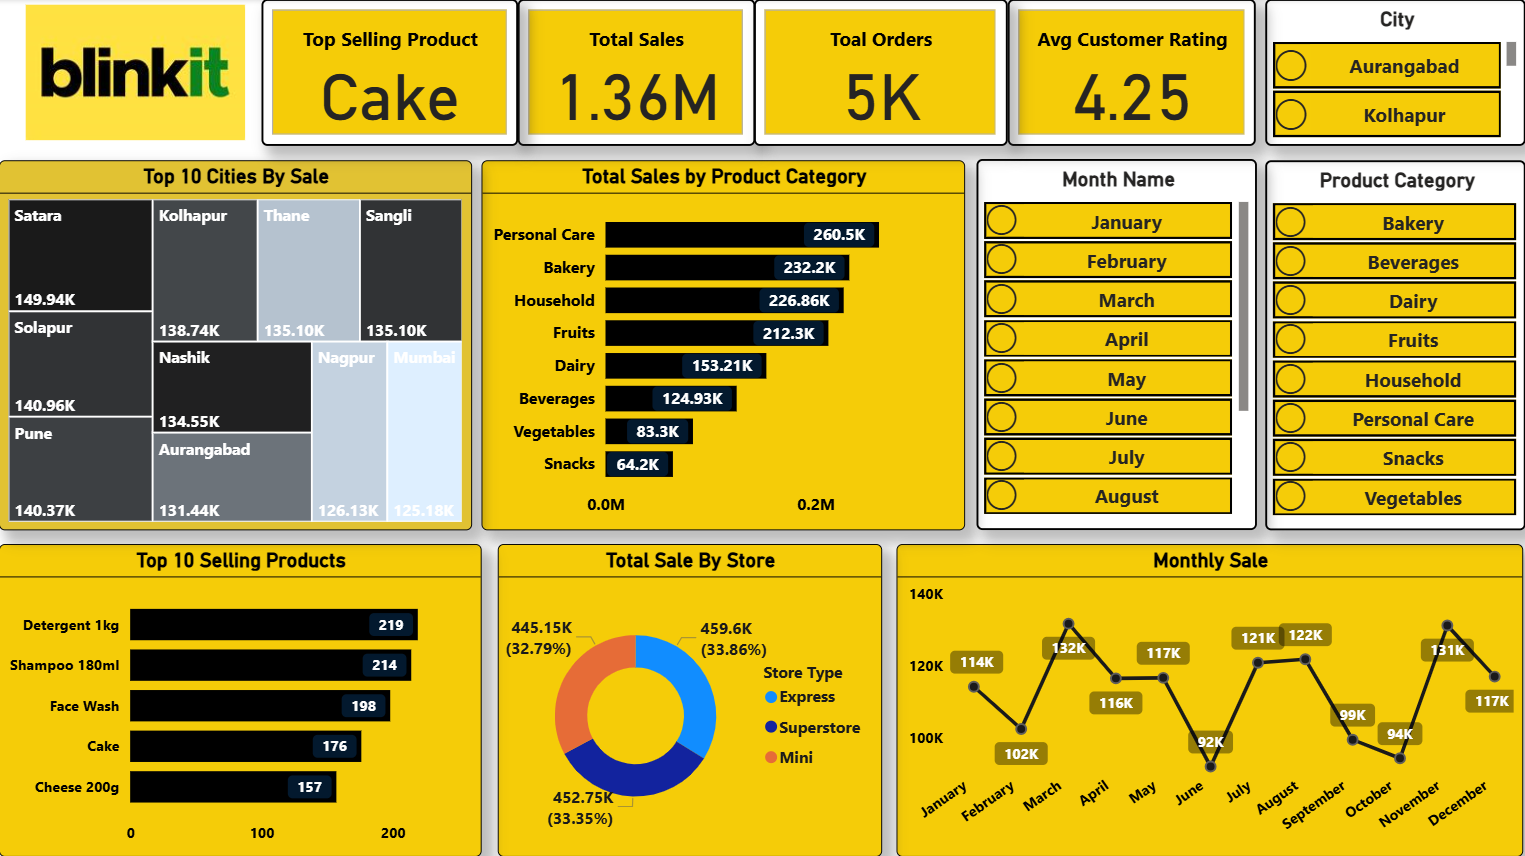

The dashboard page shown, as its layout file describes it:
{"tool":"powerbi","page":{"name":"Page 1","canvas":[1280,720],"ordinal":0},"visuals":[{"type":"lineChart","title":"Monthly Sale","fields":{"Category":["Blinkit_Data.Month Name"],"Y":["Sum(Blinkit_Data.Total_Sales)"]},"box":[752.3,457,525.6,262.8],"z":0},{"type":"barChart","fields":{"Y":["Sum(Blinkit_Data.Total_Sales)"],"Category":["Blinkit_Data.Product_Category"]},"box":[404.7,134.9,405.8,310.5],"z":1000},{"type":"donutChart","title":"Total Sale By Store","fields":{"Category":["Blinkit_Data.Store_Type"],"Y":["Sum(Blinkit_Data.Total_Sales)"]},"box":[418.6,457,322.1,262.8],"z":2000},{"type":"barChart","title":"Top 10 Selling Products","fields":{"Category":["Blinkit_Data.Product_Name"],"Y":["CountNonNull(Blinkit_Data.Product_Category)"]},"box":[0,457,404.7,262.8],"z":3000},{"type":"treemap","title":"Top 10 Cities By Sale","fields":{"Group":["Blinkit_Data.City"],"Values":["Sum(Blinkit_Data.Total_Sales)"]},"box":[0,134.9,396.5,310.5],"z":4000},{"type":"cardVisual","fields":{"Data":["Sum(Blinkit_Data.Total_Sales)"]},"box":[434.9,0,198.8,123.3],"z":5000},{"type":"cardVisual","fields":{"Data":["Min(Blinkit_Data.Product_Name)"]},"box":[219.8,0,215.1,123.3],"z":6000},{"type":"cardVisual","fields":{"Data":["Avg(Blinkit_Data.Customer_Rating)"]},"box":[846.5,0,208.1,123.3],"z":7000},{"type":"listSlicer","fields":{"Values":["Blinkit_Data.Month Name"]},"box":[819.7,134.5,235.2,310.9],"z":8000},{"type":"cardVisual","fields":{"Data":["Count(Blinkit_Data.Order_ID)"]},"box":[633.7,0,212.8,123.3],"z":9000},{"type":"listSlicer","fields":{"Values":["Blinkit_Data.Product_Category"]},"box":[1061.6,134.9,218.6,310.5],"z":10000},{"type":"image","box":[0,0,229.1,123.3],"z":11000},{"type":"listSlicer","fields":{"Values":["Blinkit_Data.City"]},"box":[1061.6,0,218.6,123.3],"z":11001}]}

Visuals, with their boxes in screenshot pixels (x1, y1, x2, y2), scaled from the page's 1280x720 canvas onto the 1525x856 screenshot:
"Monthly Sale" lineChart: left=896, top=543, right=1522, bottom=855
barChart - Sum(Blinkit_Data.Total_Sales) x Blinkit_Data.Product_Category: left=482, top=160, right=966, bottom=530
"Total Sale By Store" donutChart: left=499, top=543, right=882, bottom=855
"Top 10 Selling Products" barChart: left=0, top=543, right=482, bottom=855
"Top 10 Cities By Sale" treemap: left=0, top=160, right=472, bottom=530
cardVisual - Sum(Blinkit_Data.Total_Sales): left=518, top=0, right=755, bottom=147
cardVisual - Min(Blinkit_Data.Product_Name): left=262, top=0, right=518, bottom=147
cardVisual - Avg(Blinkit_Data.Customer_Rating): left=1009, top=0, right=1256, bottom=147
listSlicer - Blinkit_Data.Month Name: left=977, top=160, right=1257, bottom=530
cardVisual - Count(Blinkit_Data.Order_ID): left=755, top=0, right=1009, bottom=147
listSlicer - Blinkit_Data.Product_Category: left=1265, top=160, right=1524, bottom=530
image: left=0, top=0, right=273, bottom=147
listSlicer - Blinkit_Data.City: left=1265, top=0, right=1524, bottom=147
